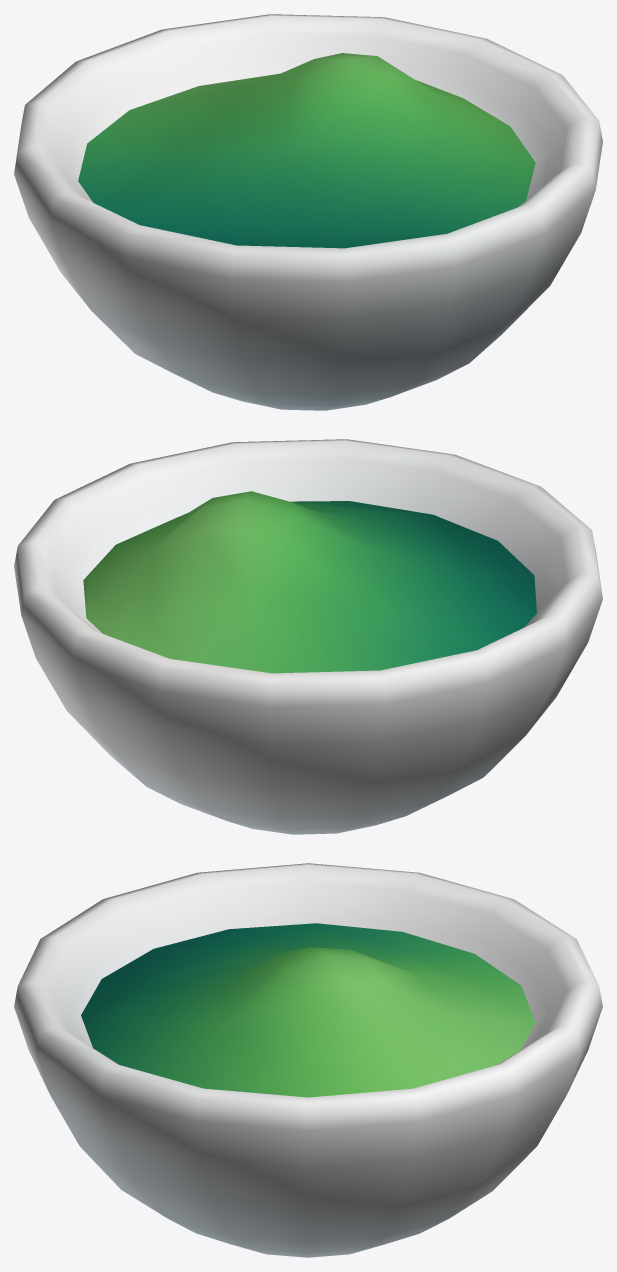
Rendered from sauce_005.fbx.
The picture shows the model from 3 angles, top to bottom: view 1: azimuth 30°, elevation 25°; view 2: azimuth 150°, elevation 25°; view 3: azimuth 270°, elevation 25°; orthographic projection.
Visible parts, largest first — view 1: sauce_005; view 2: sauce_005; view 3: sauce_005.
Boxes of the visible parts, x1=… form: sauce_005: x1=14, y1=14, x2=602, y2=410; sauce_005: x1=14, y1=439, x2=602, y2=834; sauce_005: x1=14, y1=863, x2=602, y2=1257.
Size of the model in its own units: 6.8 by 6.8 by 3.58.
